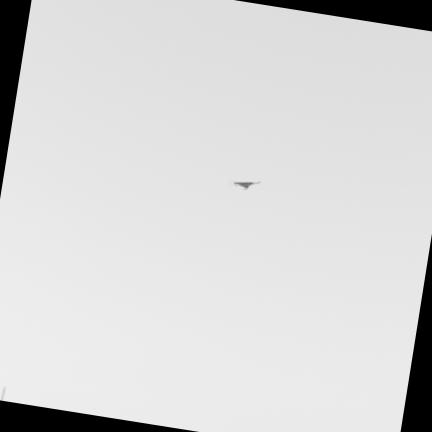Shahed: (228, 179, 260, 190)
